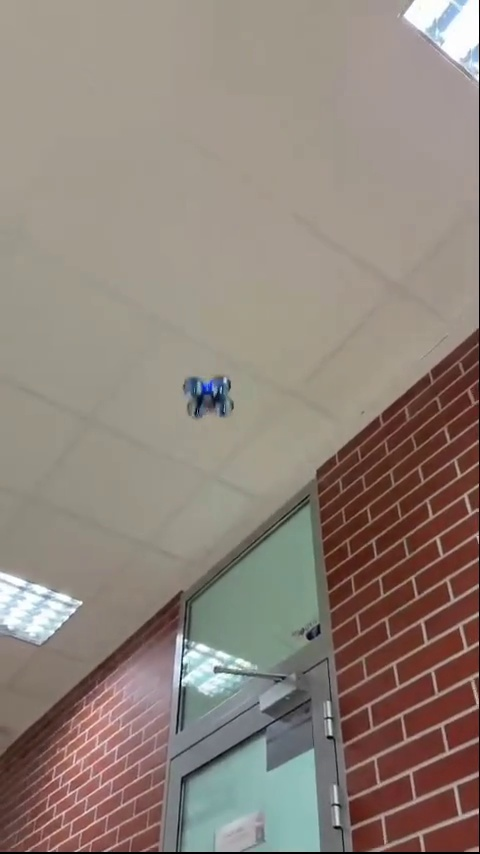drone: (182, 375, 236, 420)
